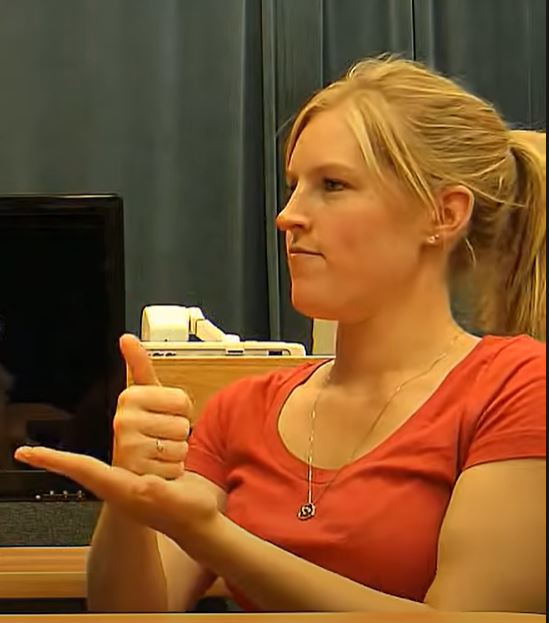Help: (4, 330, 269, 541)
